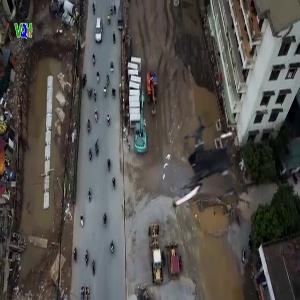drone: (141, 111, 258, 228)
